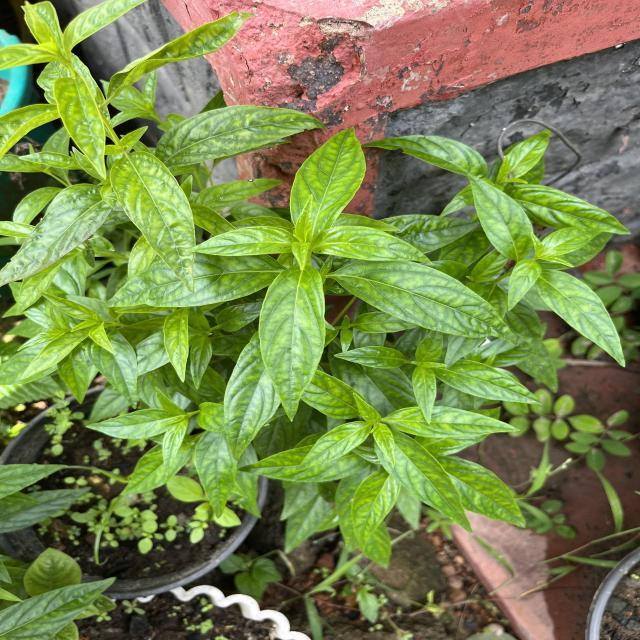Andrographis paniculata: (333, 260, 521, 346), (112, 150, 199, 292), (0, 182, 110, 288), (151, 102, 329, 166), (258, 264, 328, 423), (379, 432, 475, 538), (538, 270, 628, 368), (286, 125, 368, 232), (511, 183, 634, 240), (221, 336, 275, 464), (51, 74, 110, 180), (368, 132, 494, 176), (439, 357, 546, 408), (468, 172, 530, 260), (315, 224, 437, 266), (384, 405, 520, 442), (84, 328, 140, 411), (191, 428, 240, 521), (350, 471, 402, 551), (293, 420, 370, 472), (186, 225, 295, 258), (84, 407, 177, 440), (160, 308, 197, 383), (333, 346, 407, 369)
